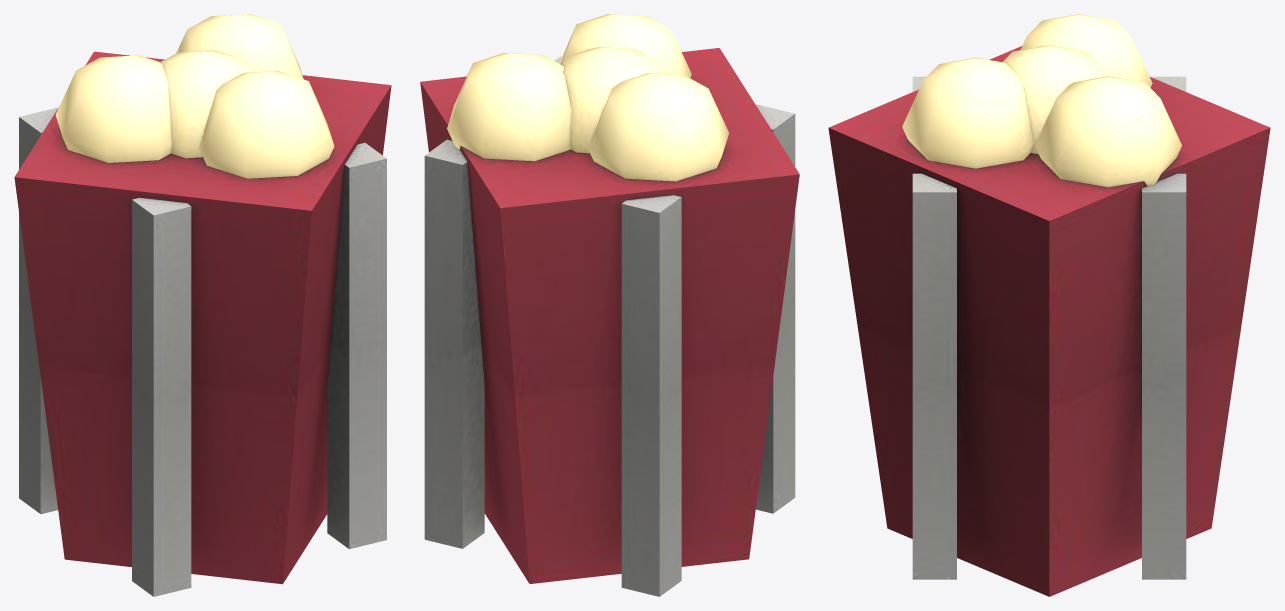
The model's file is popcorn_box.glb.
The picture shows the model from 3 angles, left to right: view 1: azimuth 30°, elevation 25°; view 2: azimuth 150°, elevation 25°; view 3: azimuth 270°, elevation 25°; orthographic projection.
Parts seen in each view (by area): view 1: PopcornBox; view 2: PopcornBox; view 3: PopcornBox.
Boxes of the visible parts, <box> form: PopcornBox: <box>14,14,391,596</box>; PopcornBox: <box>420,14,799,596</box>; PopcornBox: <box>828,14,1270,596</box>.
Bounding box in the file's own units: 0.3 × 0.36 × 0.3.
2 materials, 2 textured.
